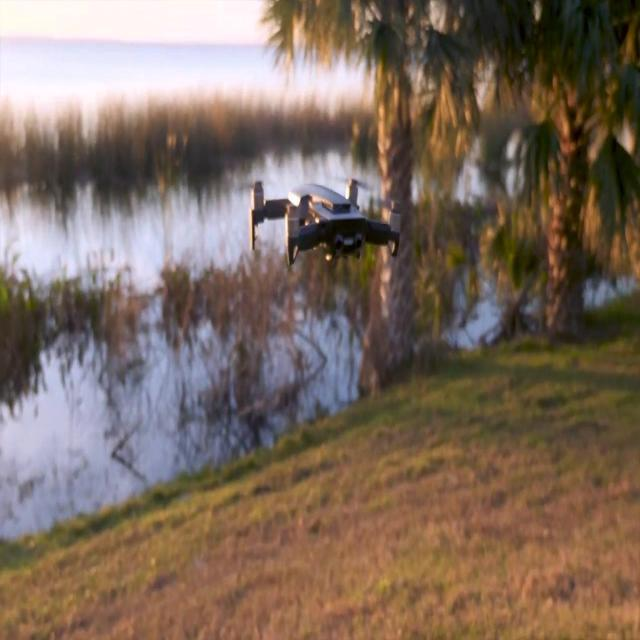drone: (243, 175, 407, 268)
